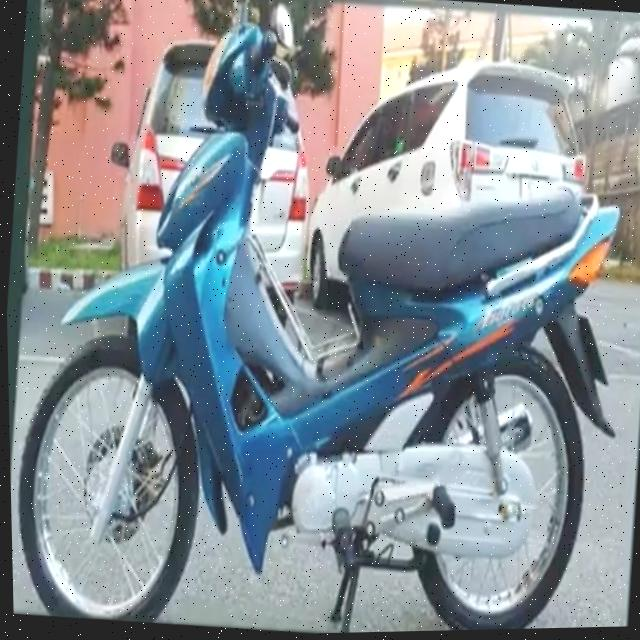car: (301, 36, 612, 333), (88, 24, 329, 340)
motorcycle: (0, 0, 640, 640)
